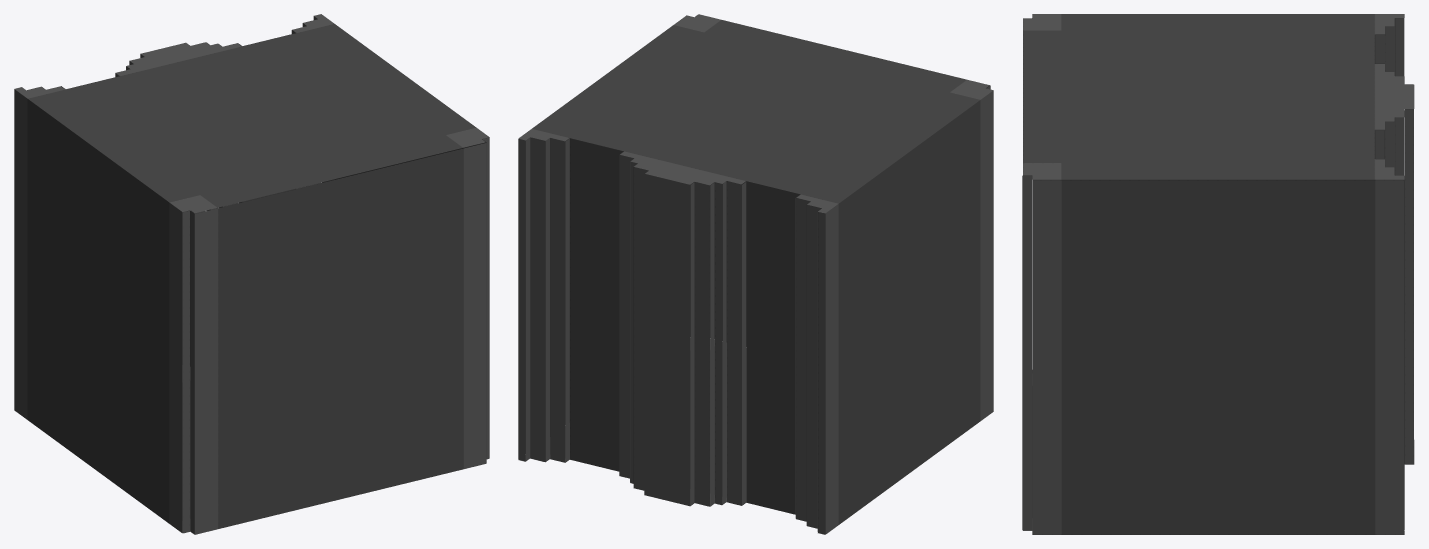
The model's file is CastleWallTConnection.fbx.
The picture shows the model from 3 angles, left to right: view 1: azimuth 30°, elevation 25°; view 2: azimuth 150°, elevation 25°; view 3: azimuth 270°, elevation 25°; orthographic projection. The views are drawn at different scales.
Visible parts, largest first — view 1: Castle wall T connection; view 2: Castle wall T connection; view 3: Castle wall T connection.
Boxes of the visible parts, left/top/right/bottom form: Castle wall T connection: left=14, top=14, right=489, bottom=534; Castle wall T connection: left=518, top=14, right=993, bottom=534; Castle wall T connection: left=1022, top=14, right=1414, bottom=534.
Bounding box in the file's own units: 400 × 400 × 400.
